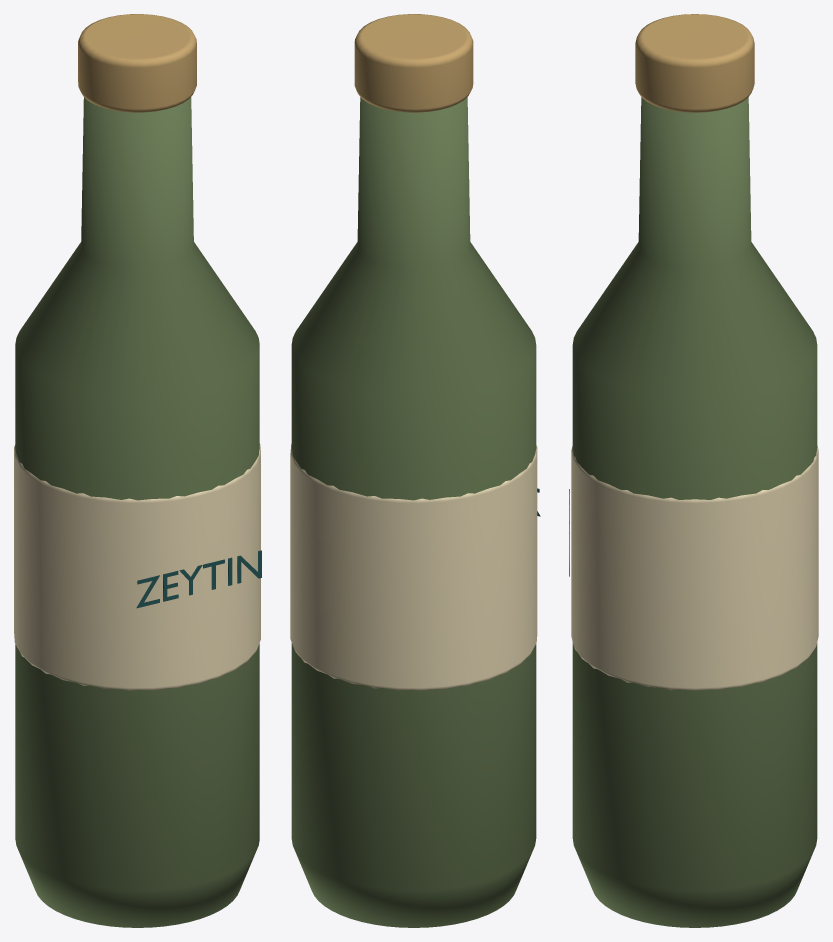
The model's file is GlassBottle.fbx.
3 views of the same model, side by side, from view 1: azimuth 30°, elevation 25°; view 2: azimuth 150°, elevation 25°; view 3: azimuth 270°, elevation 25° (orthographic).
Visible parts, largest first — view 1: Surface_KKTC_Olive, Surface_KKTC_Paper, Surface_KKTC_Brass, Surface_KKTC_CanvasDeep; view 2: Surface_KKTC_Olive, Surface_KKTC_Paper, Surface_KKTC_Brass; view 3: Surface_KKTC_Olive, Surface_KKTC_Paper, Surface_KKTC_Brass.
Part boxes in pixels (x1,y1,x2,y2): Surface_KKTC_Olive: [15, 97, 259, 927]; Surface_KKTC_Paper: [14, 443, 260, 690]; Surface_KKTC_Brass: [78, 14, 196, 112]; Surface_KKTC_CanvasDeep: [136, 550, 261, 608]; Surface_KKTC_Olive: [291, 97, 536, 927]; Surface_KKTC_Paper: [290, 444, 537, 690]; Surface_KKTC_Brass: [354, 14, 473, 112]; Surface_KKTC_Olive: [572, 97, 817, 927]; Surface_KKTC_Paper: [571, 445, 818, 690]; Surface_KKTC_Brass: [635, 14, 754, 112].
Bounding box in the file's own units: 7.9 × 29.85 × 7.97.
